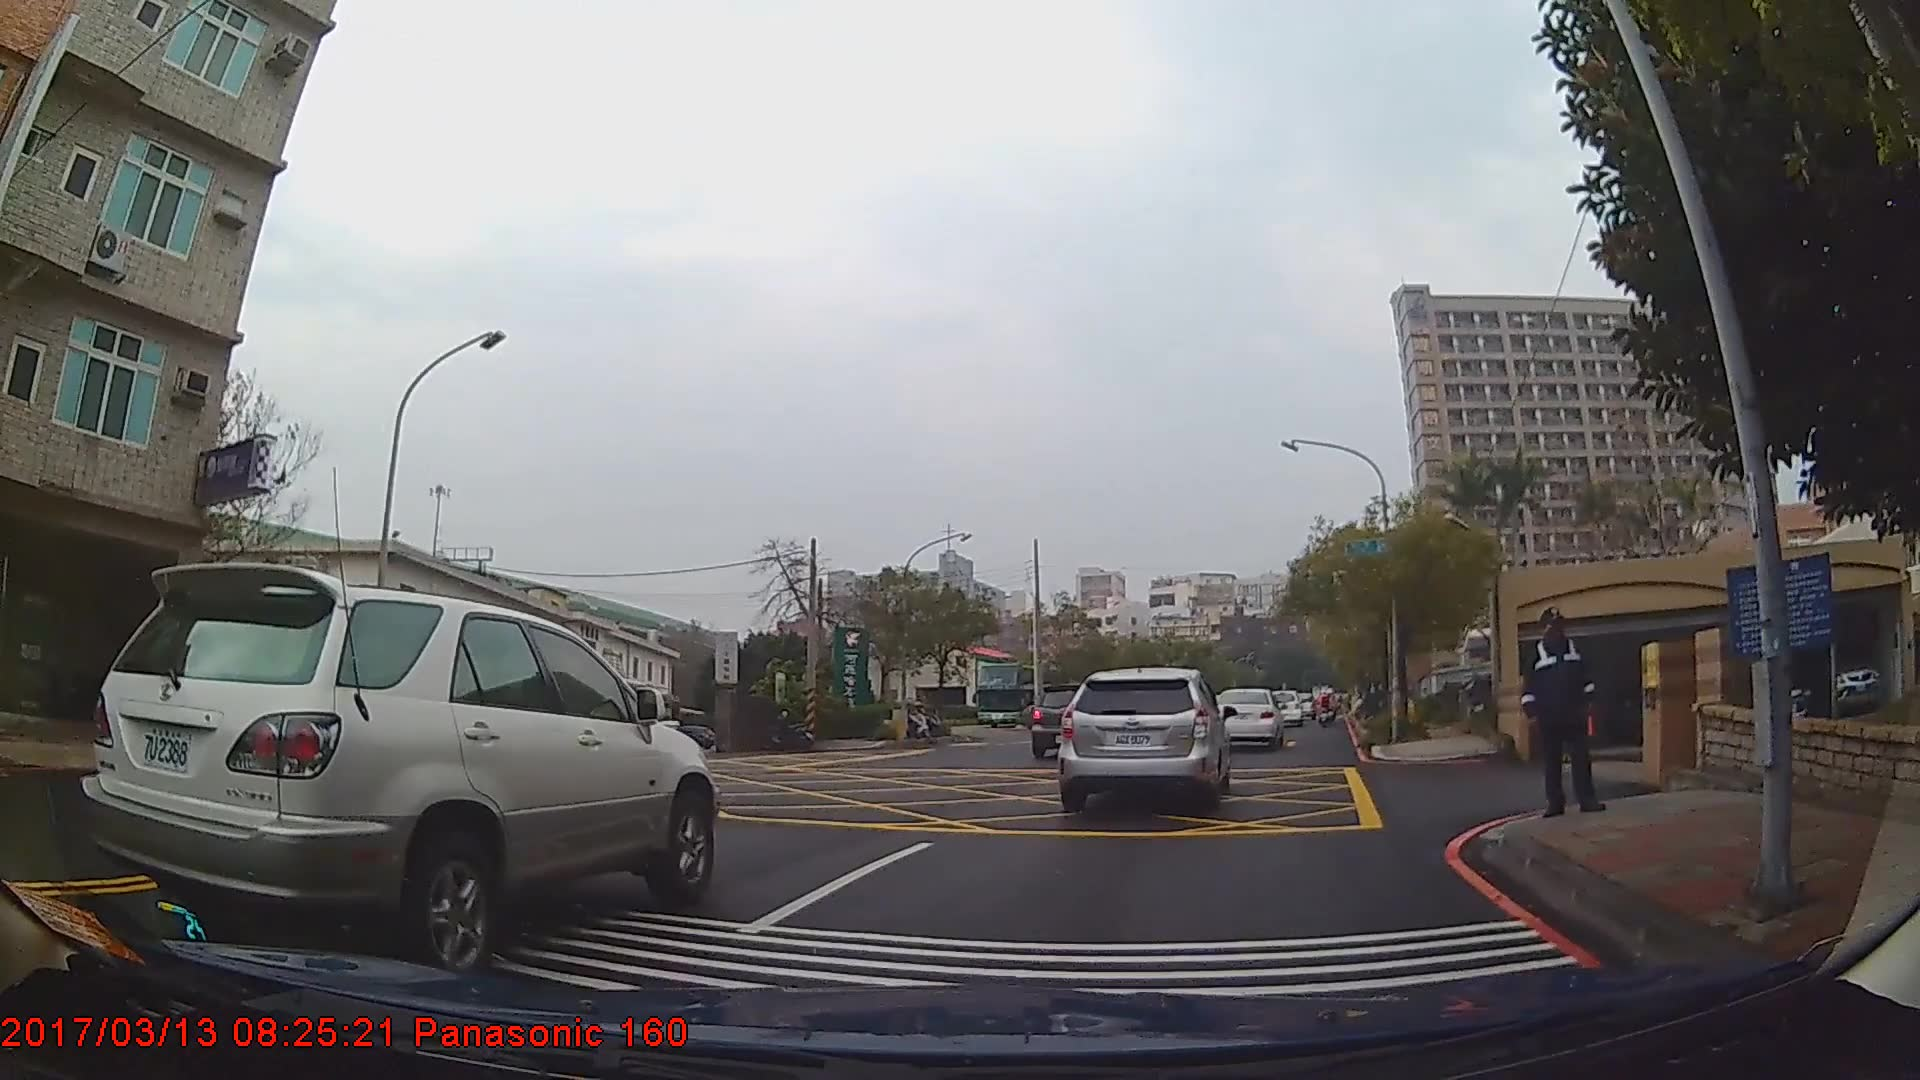pedestrian: (1520, 604, 1605, 819)
vehicle: (77, 555, 717, 973), (1060, 663, 1232, 810), (977, 662, 1077, 728), (1028, 681, 1115, 755), (1211, 688, 1285, 752), (1269, 687, 1304, 727)
